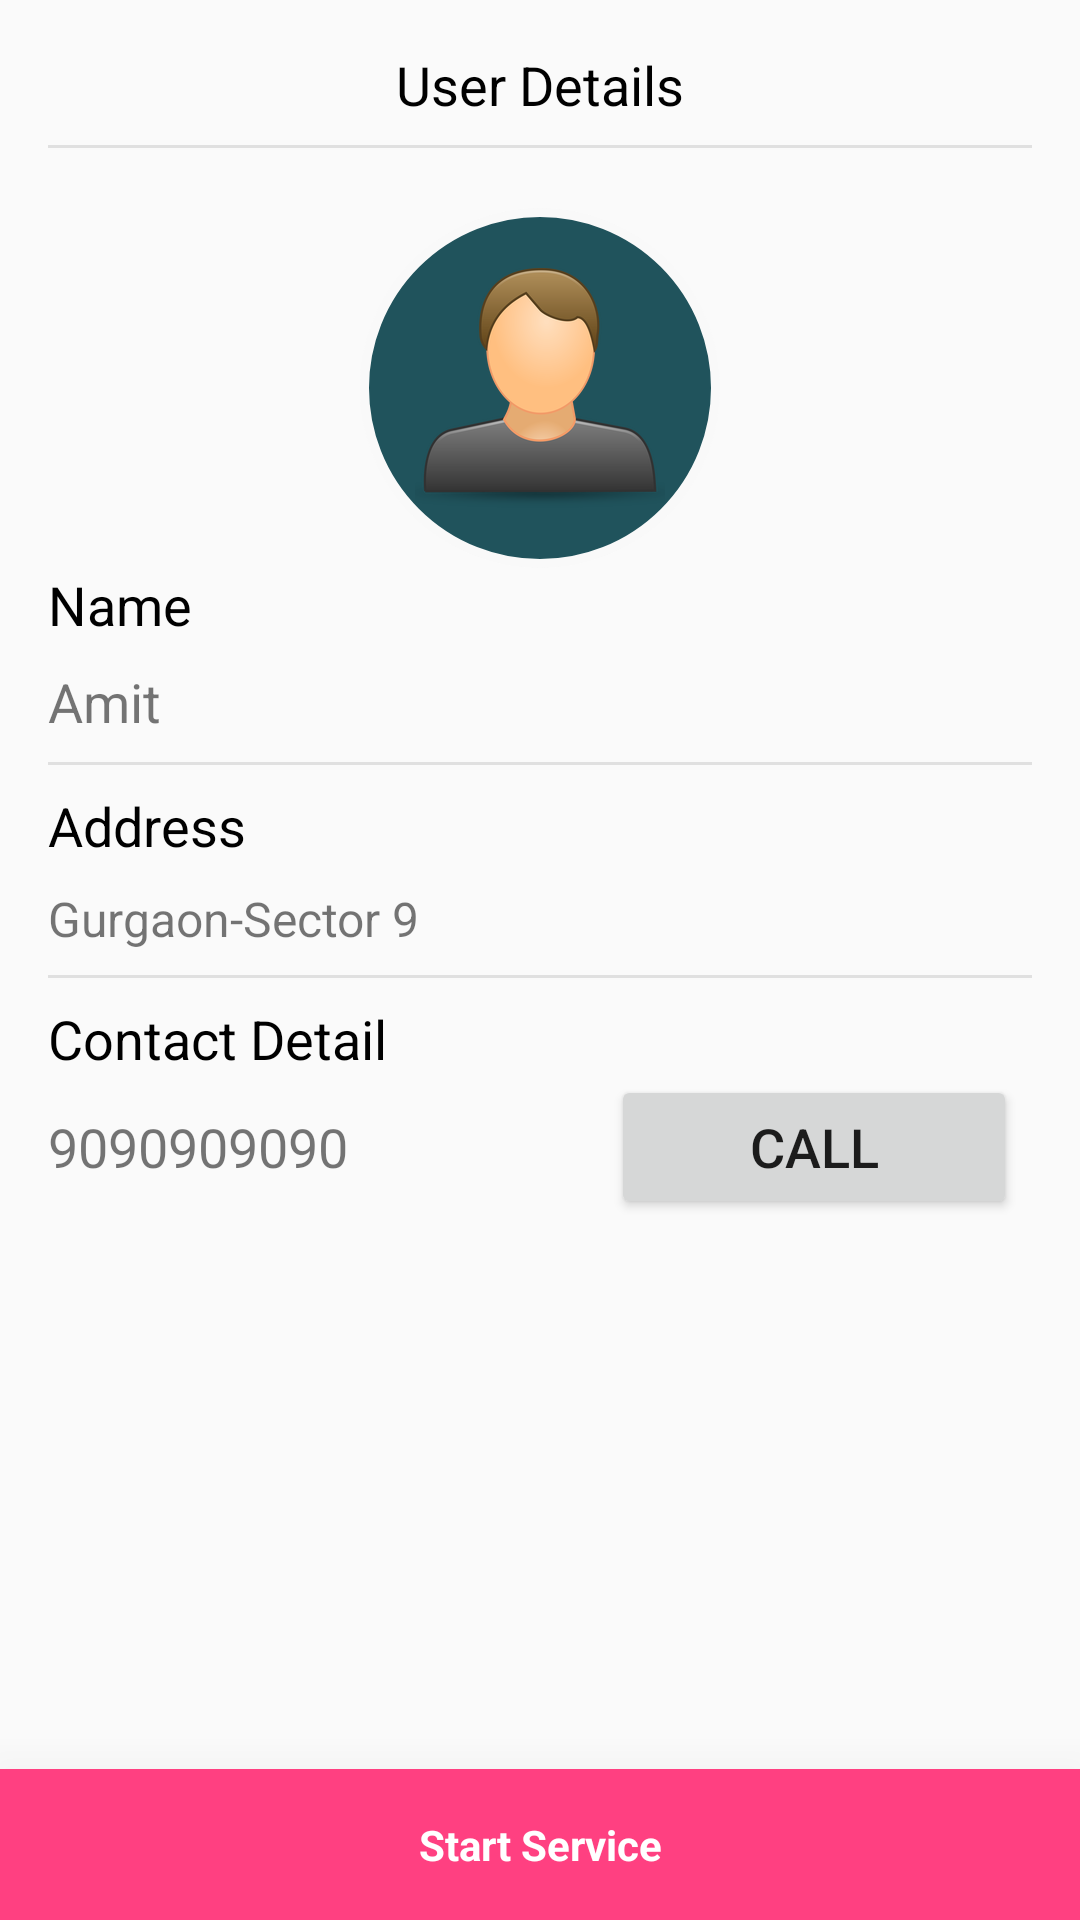

Icons on this 1080px×1920px Android screen, each with the point to tap as [x,y]:
profile pic: [540,388]
